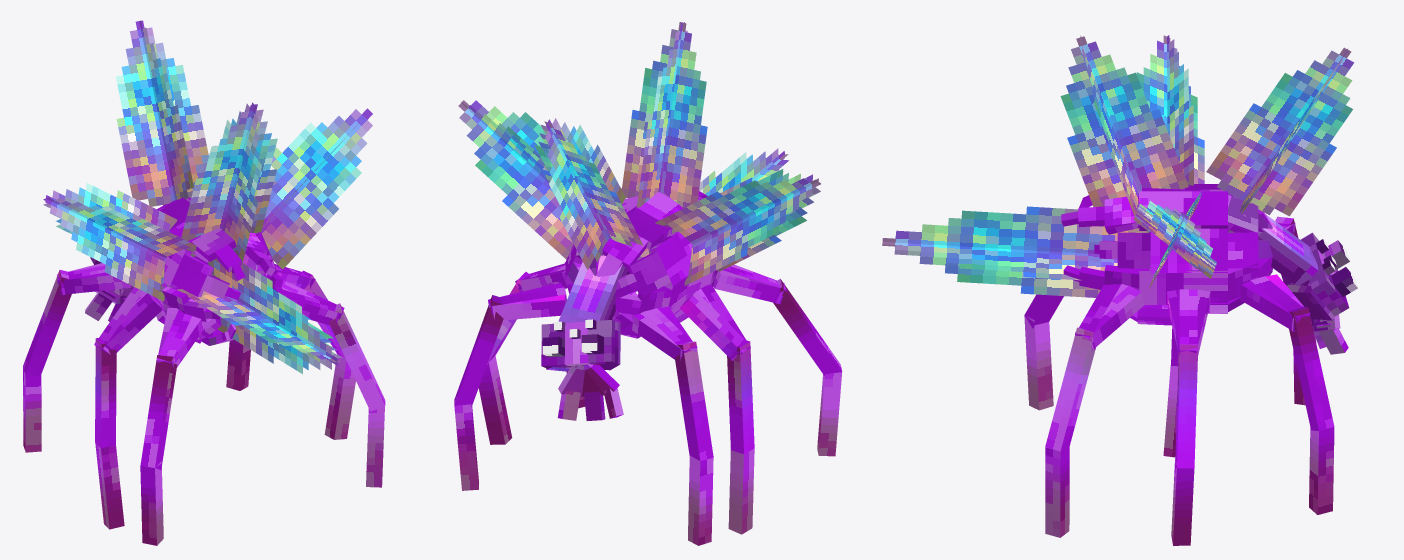
Rendered from zauber-spinne.glb.
3 views of the same model, side by side, from view 1: azimuth 30°, elevation 25°; view 2: azimuth 150°, elevation 25°; view 3: azimuth 270°, elevation 25° (orthographic). The views are drawn at different scales.
Visible parts, largest first — view 1: cube_274, cube_267, cube_277, cube_270, cube_280, cube_268, cube_271, cube_276, cube_279, cube_245, cube_237, cube_253 (+20 smaller); view 2: cube_270, cube_273, cube_277, cube_268, cube_276, cube_267, cube_271, cube_253, cube_283, cube_237, cube_254, cube_261 (+29 smaller); view 3: cube_268, cube_271, cube_280, cube_279, cube_221, cube_261, cube_277, cube_273, cube_229, cube_276, cube_246, cube_222 (+26 smaller).
Part boxes in pixels (<box>): cube_274: <box>261,108,372,269</box>; cube_267: <box>115,20,208,206</box>; cube_277: <box>45,183,177,301</box>; cube_270: <box>181,104,277,240</box>; cube_280: <box>208,258,337,374</box>; cube_268: <box>139,20,193,205</box>; cube_271: <box>222,102,261,262</box>; cube_276: <box>43,197,196,257</box>; cube_279: <box>177,289,341,362</box>; cube_245: <box>140,355,177,470</box>; cube_237: <box>95,338,116,448</box>; cube_253: <box>23,270,71,376</box>; cube_270: <box>621,22,707,208</box>; cube_273: <box>458,100,625,259</box>; cube_277: <box>655,178,820,271</box>; cube_268: <box>545,118,625,270</box>; cube_276: <box>684,169,818,285</box>; cube_267: <box>534,121,643,246</box>; cube_271: <box>636,22,687,207</box>; cube_253: <box>675,341,713,460</box>; cube_283: <box>558,255,629,322</box>; cube_237: <box>727,340,754,453</box>; cube_254: <box>688,455,713,545</box>; cube_261: <box>454,295,503,407</box>; cube_268: <box>1206,47,1354,216</box>; cube_271: <box>1060,36,1188,206</box>; cube_280: <box>882,206,1147,297</box>; cube_279: <box>882,232,1117,280</box>; cube_221: <box>1045,327,1095,451</box>; cube_261: <box>1289,306,1334,431</box>; cube_277: <box>1167,35,1193,185</box>; cube_273: <box>1134,200,1216,278</box>; cube_229: <box>1175,344,1198,468</box>; cube_276: <box>1136,35,1204,183</box>; cube_246: <box>1024,315,1053,410</box>; cube_222: <box>1045,444,1069,537</box>.
Size of the model in its own units: 3.32 by 3.77 by 3.6.
Materials: 1 (1 with a texture image).
